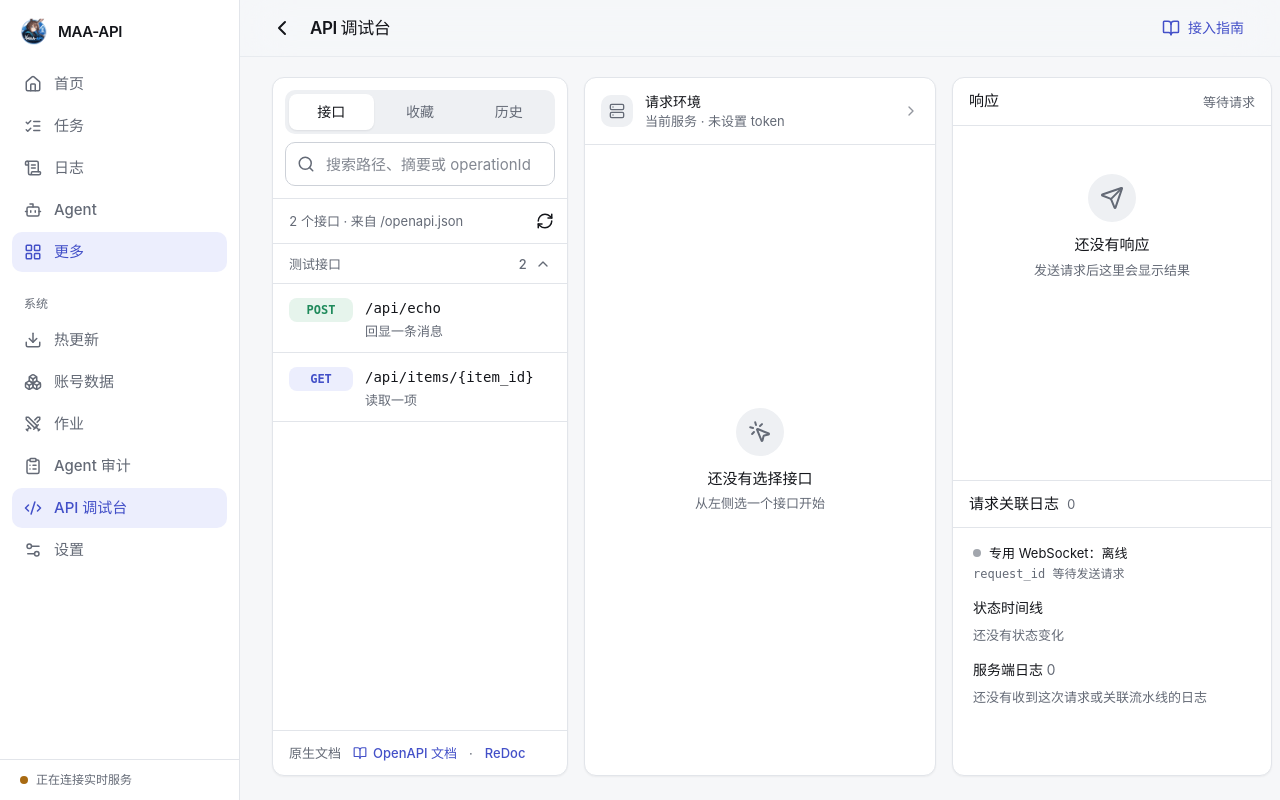
Test: API console › K7 shows remote snippet CORS failures instead of hiding them
Expected: the heading "API 调试台" is shown, [310,18,390,38]
Click the button "请求环境 当前服务 · 未设置 token" at (760, 111), box [591,84,929,138]
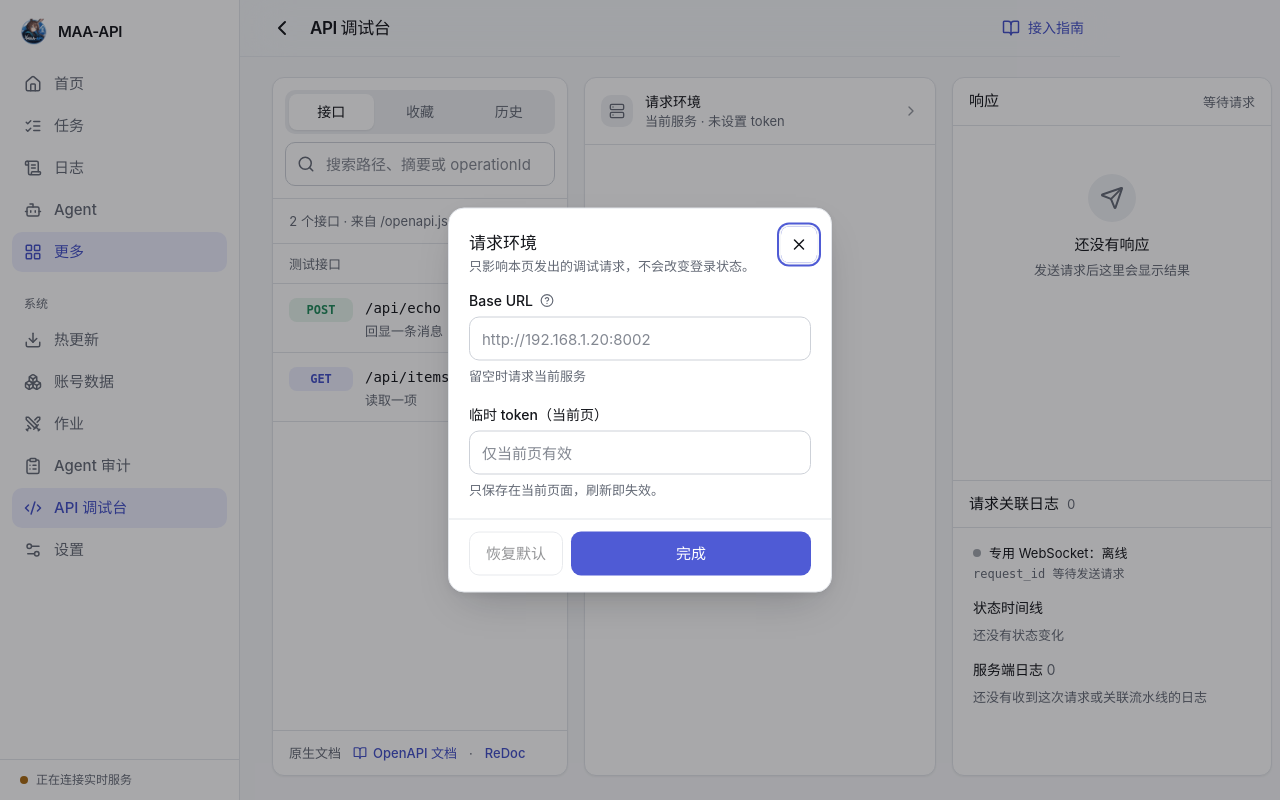
Type "remote-temp-secret" into the password field labelled "临时 token（当前页）" at (640, 452), box [469,430,811,474]
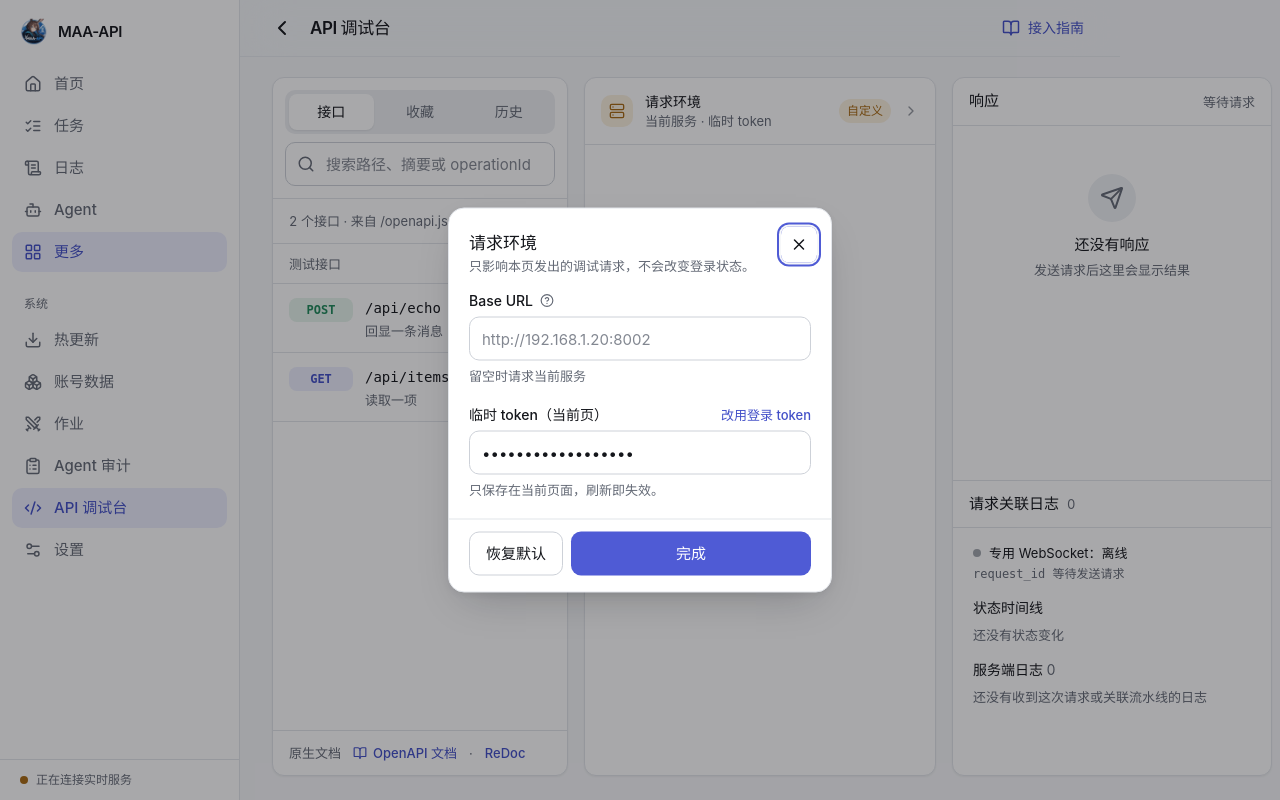
Type "http://remote-maa.local:8002/base" into the field labelled "Base URL" at (640, 338), box [469,316,811,360]
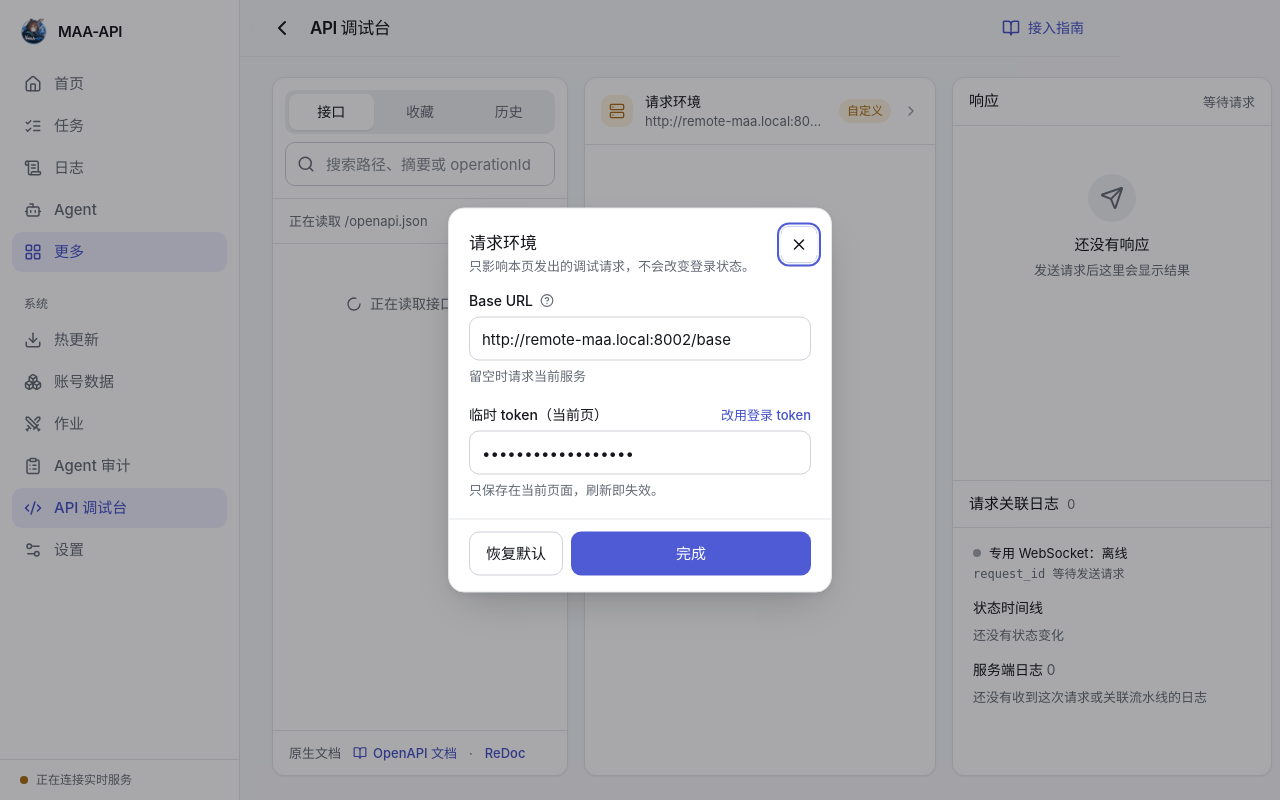
Click the button "完成" at (691, 554), box [571,532,811,576]
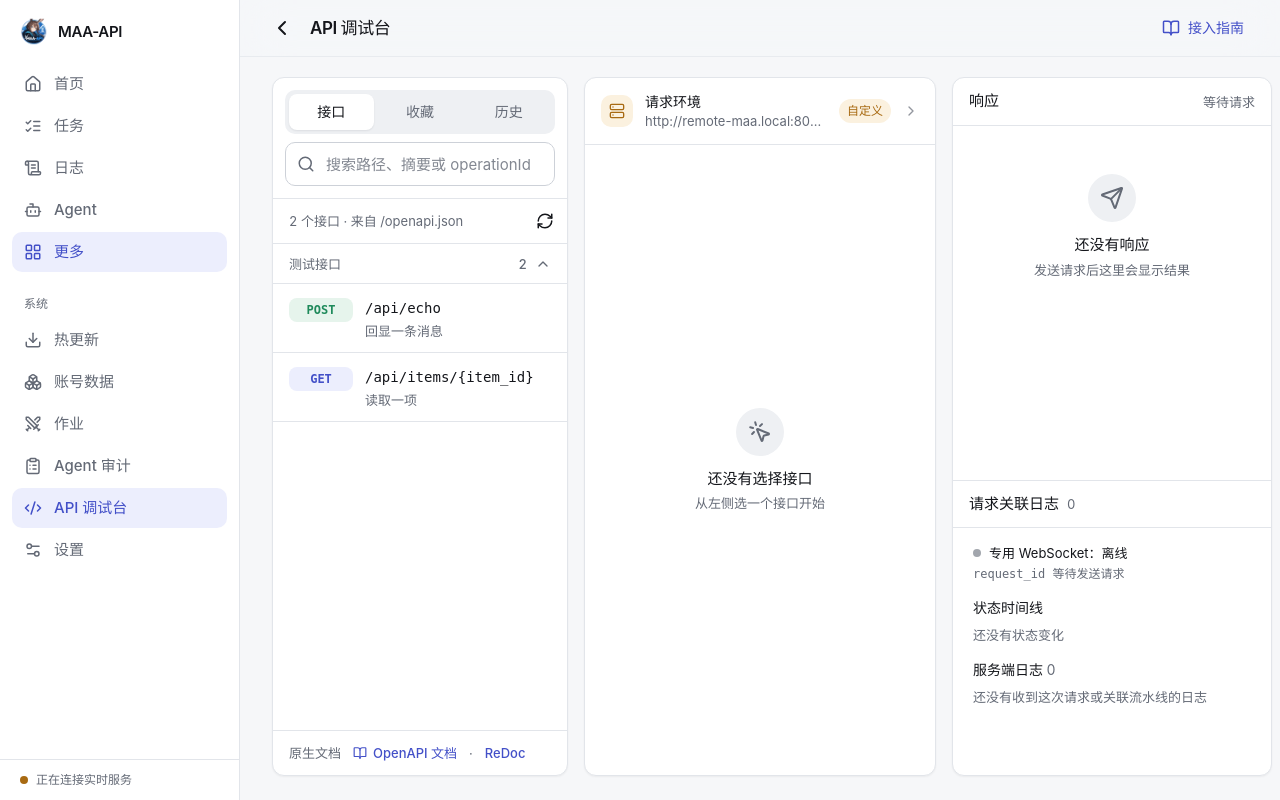
Click the radio button labelled "收藏" at (420, 112), box [378,94,462,130]
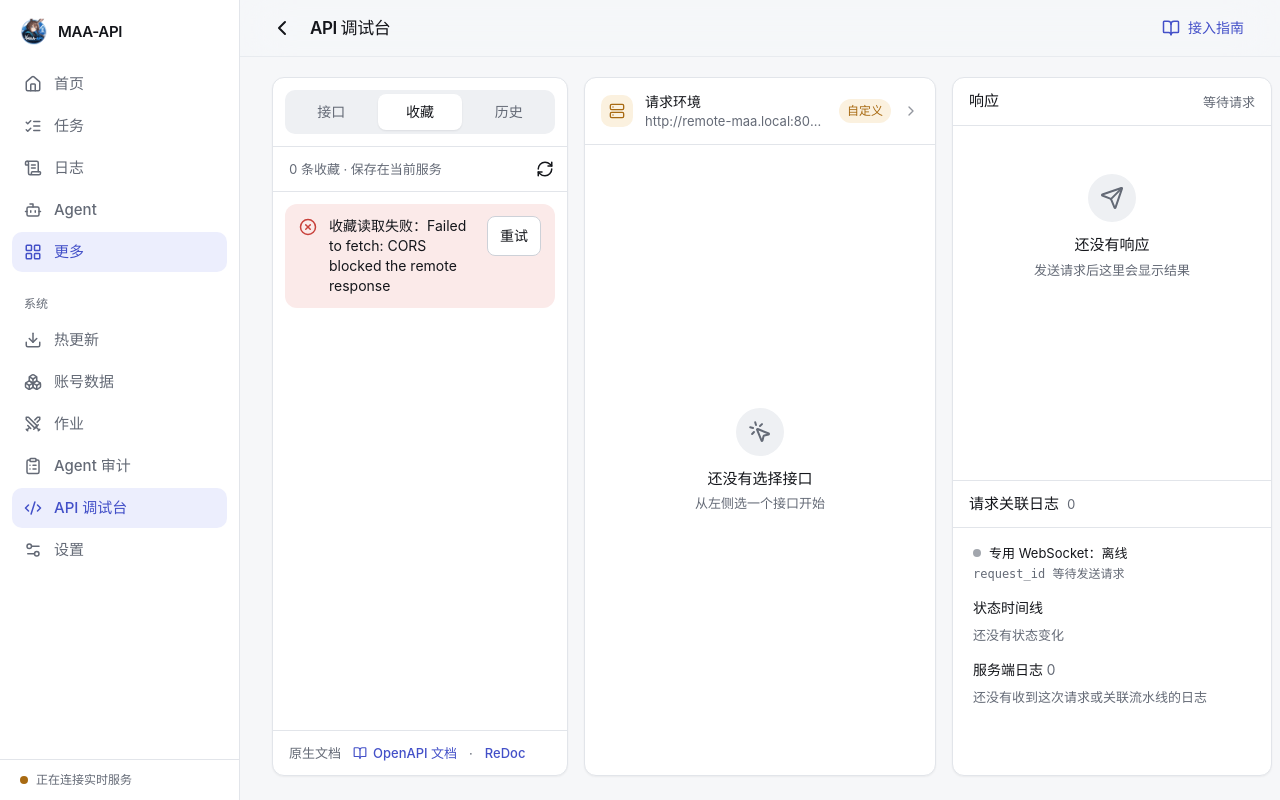
Expected: the text "收藏读取失败：Failed to fetch: CORS blocked the remote response 重试" is shown, [285,204,555,308]
